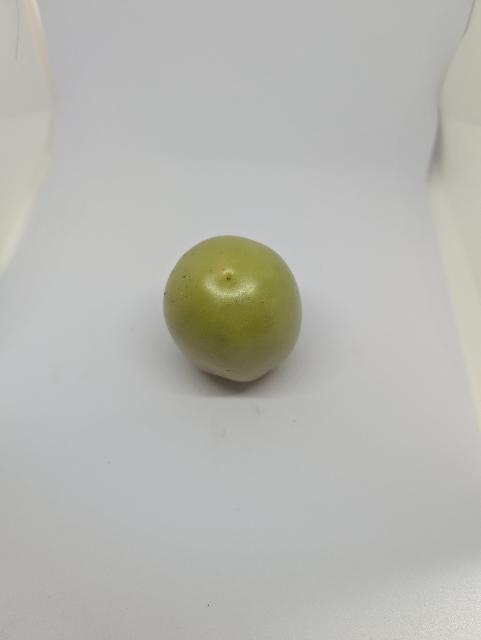green: (154, 232, 308, 392)
